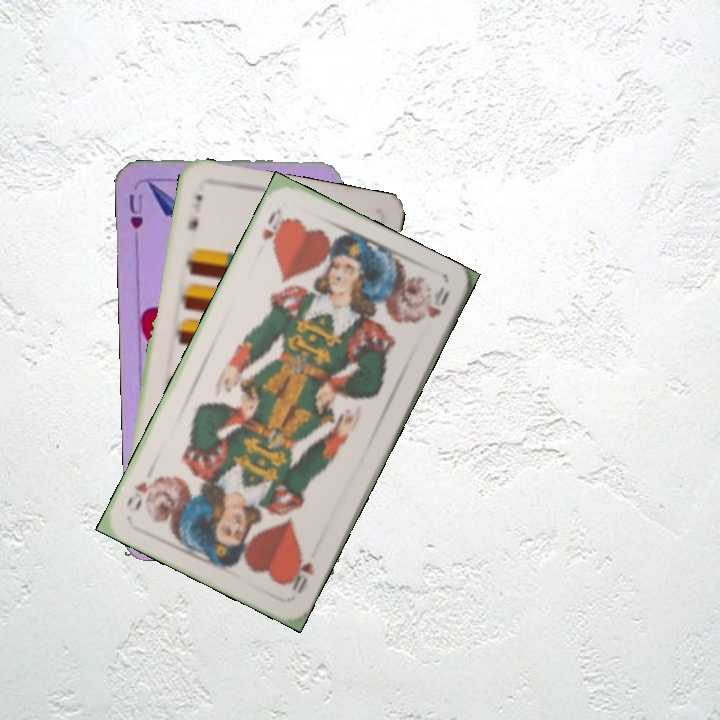E7: (183, 190, 205, 233)
HO: (258, 203, 290, 253), (285, 555, 316, 597)
HU: (125, 190, 146, 231)
